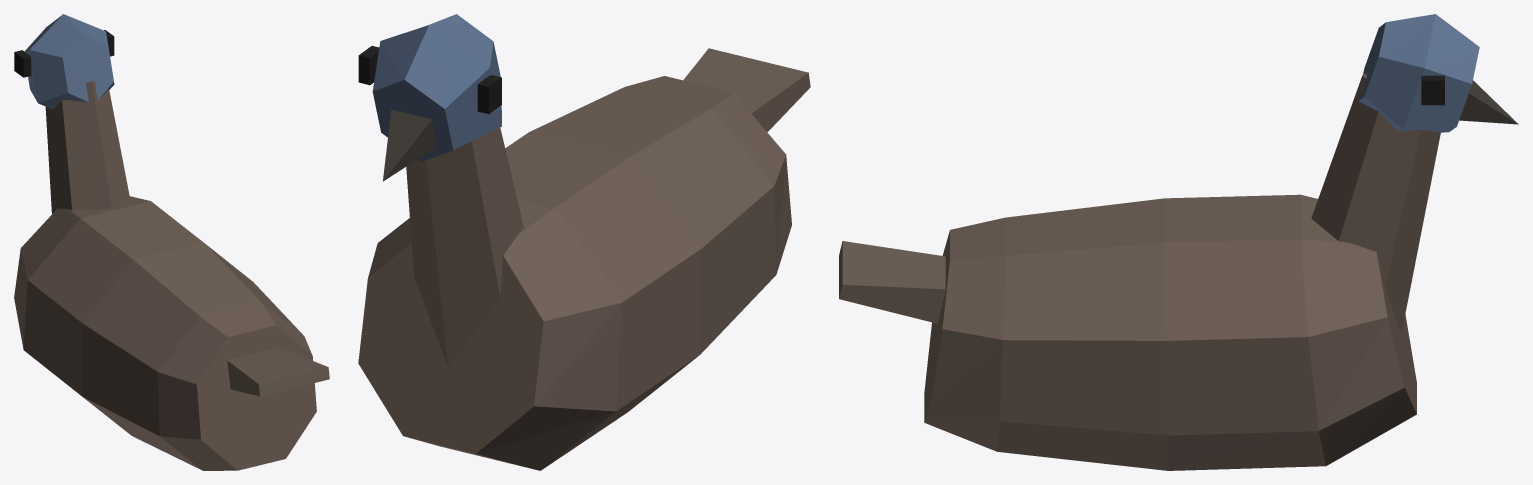
The model's file is animal_emu.obj.
The picture shows the model from 3 angles, left to right: view 1: azimuth 30°, elevation 25°; view 2: azimuth 150°, elevation 25°; view 3: azimuth 270°, elevation 25°; orthographic projection. The views are drawn at different scales.
Parts seen in each view (by area): view 1: animal_emu; view 2: animal_emu; view 3: animal_emu.
Part boxes in pixels (x1,y1,x2,y2): animal_emu: (14,14,329,470); animal_emu: (358,14,810,470); animal_emu: (839,14,1518,470).
Bounding box in the file's own units: 0.3448 × 0.6522 × 0.9242.
